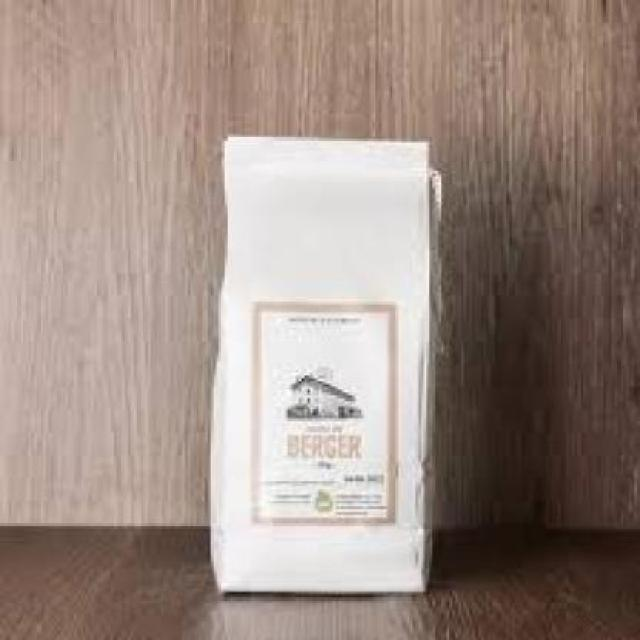gunny_bag: (207, 142, 431, 596)
